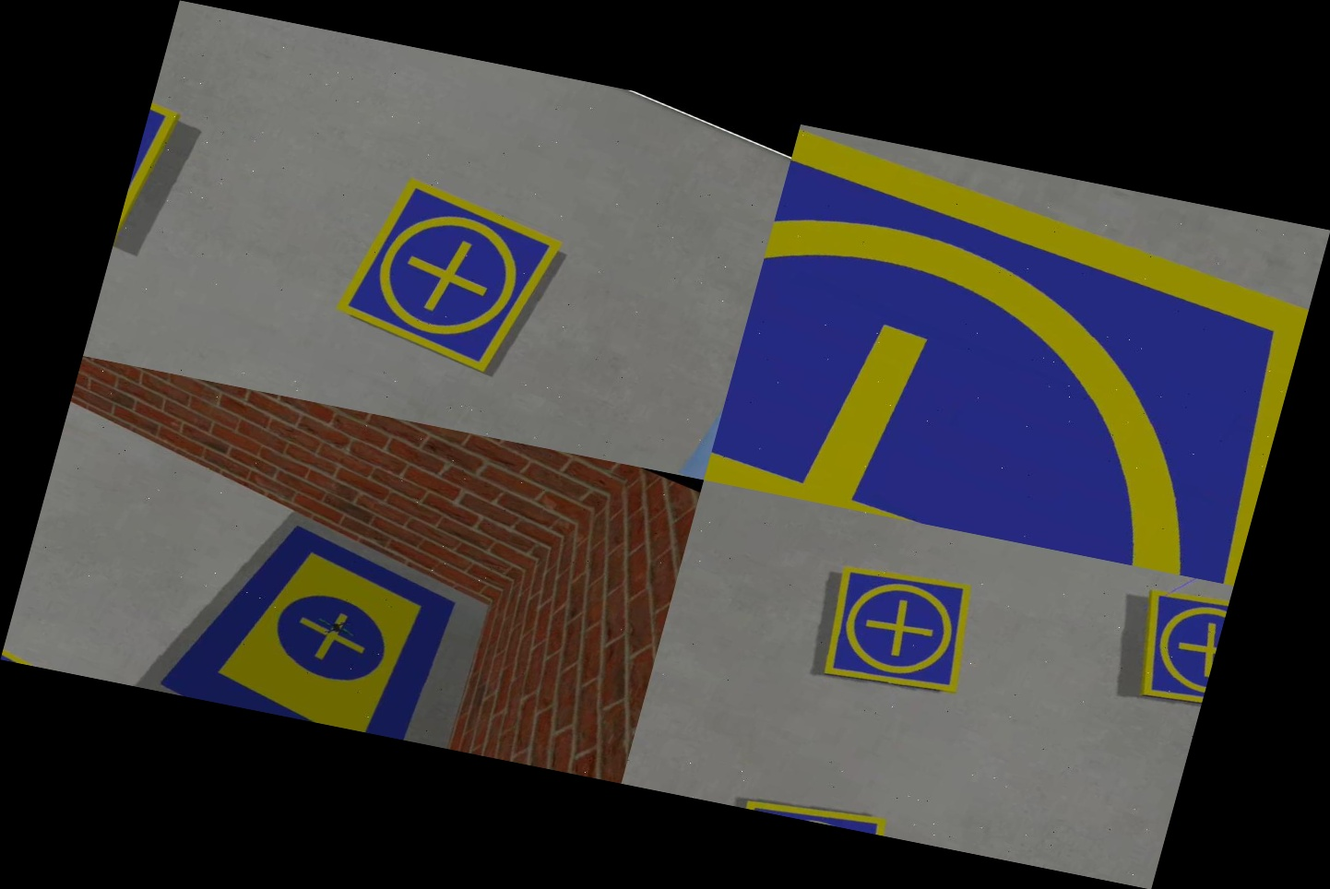large_base: (153, 493, 512, 751)
small_base: (704, 124, 1329, 586), (324, 166, 576, 382), (782, 530, 1017, 729), (1090, 565, 1232, 732), (711, 756, 936, 844)
